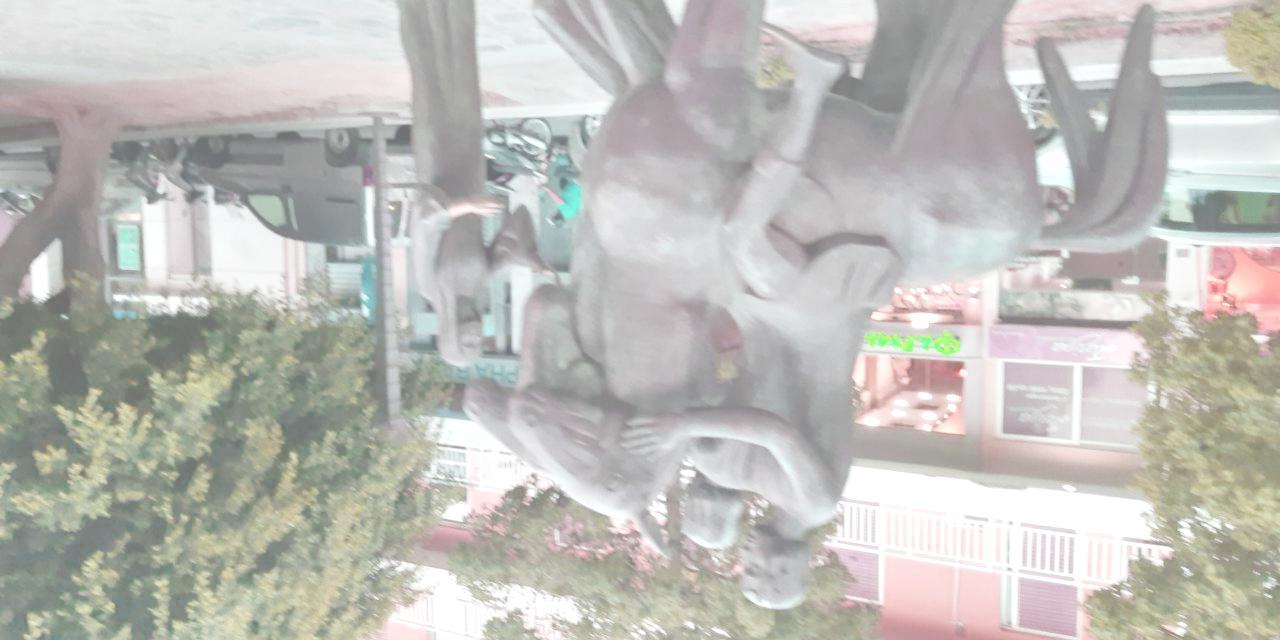Aretousa: (395, 1, 1172, 609)
